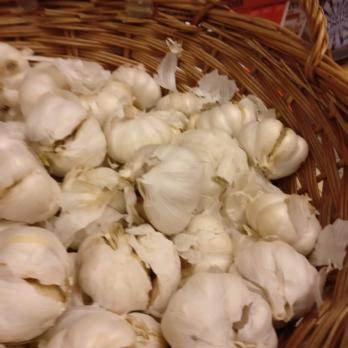Garlic: (0, 64, 323, 348)
